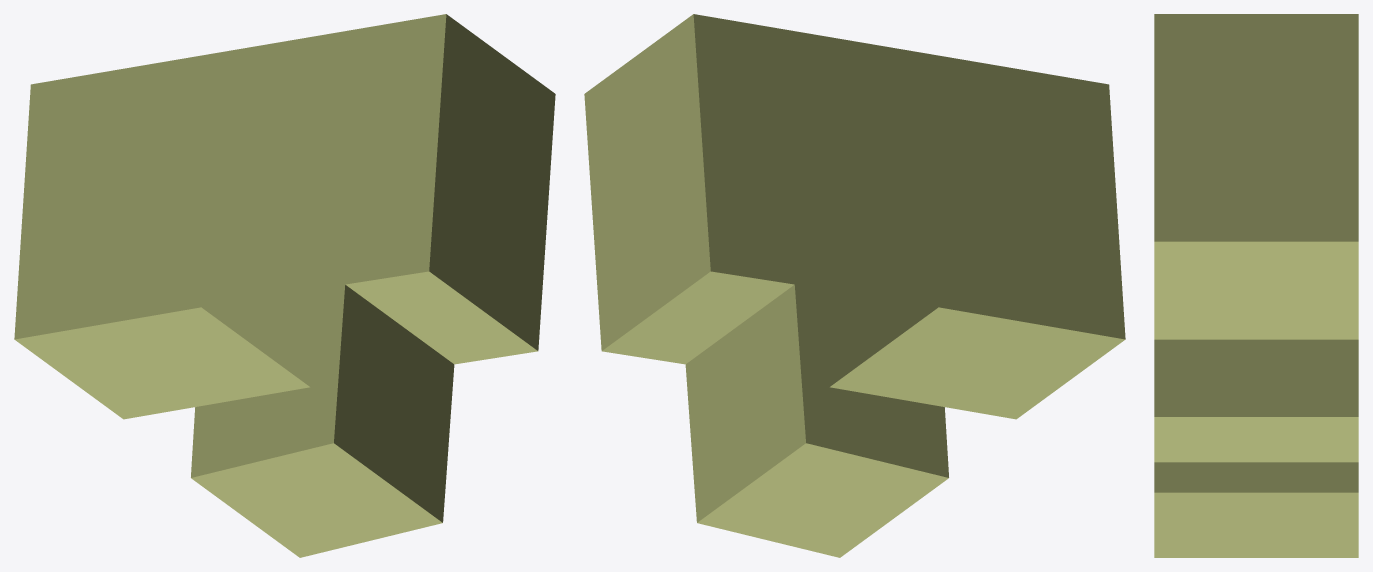
The picture shows the model from 3 angles, left to right: view 1: azimuth 30°, elevation 25°; view 2: azimuth 150°, elevation 25°; view 3: azimuth 270°, elevation 25°; orthographic projection. The views are drawn at different scales.
Visible parts, largest first — view 1: 0_3_2_0_2_1_0_3_2; view 2: 0_3_2_0_2_1_0_3_2; view 3: 0_3_2_0_2_1_0_3_2.
Boxes of the visible parts, x1=… form: 0_3_2_0_2_1_0_3_2: x1=14, y1=14, x2=555, y2=557; 0_3_2_0_2_1_0_3_2: x1=584, y1=14, x2=1125, y2=557; 0_3_2_0_2_1_0_3_2: x1=1154, y1=14, x2=1358, y2=557.
Bounding box in the file's own units: 20.56 × 19.68 × 9.
